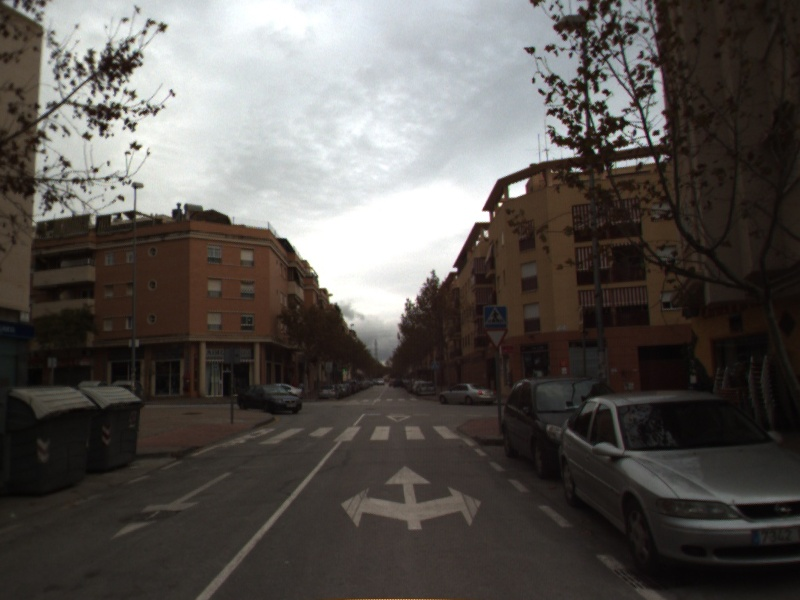STRAIGHT_LEFT_RIGHT: (338, 464, 484, 532)
